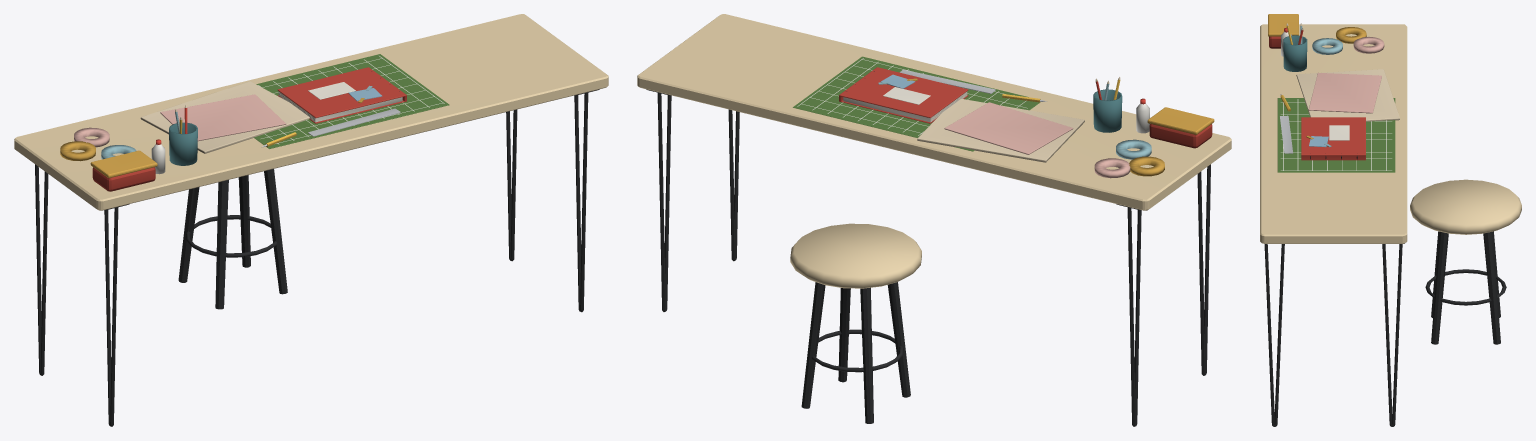
The model's file is craftTable.glb.
3 renders of one model, left to right at view 1: azimuth 30°, elevation 25°; view 2: azimuth 150°, elevation 25°; view 3: azimuth 270°, elevation 25°, orthographic. The views are drawn at different scales.
Visible parts, largest first — view 1: body, cover; view 2: body, cover; view 3: body, cover.
Boxes of the visible parts, left/top/right/bottom form: body: left=14, top=14, right=608, bottom=426; cover: left=277, top=67, right=405, bottom=118; body: left=637, top=14, right=1231, bottom=426; cover: left=840, top=67, right=968, bottom=117; body: left=1260, top=14, right=1521, bottom=426; cover: left=1301, top=117, right=1365, bottom=154.
Bounding box in the file's own units: 1.7 × 0.9136 × 0.89.
